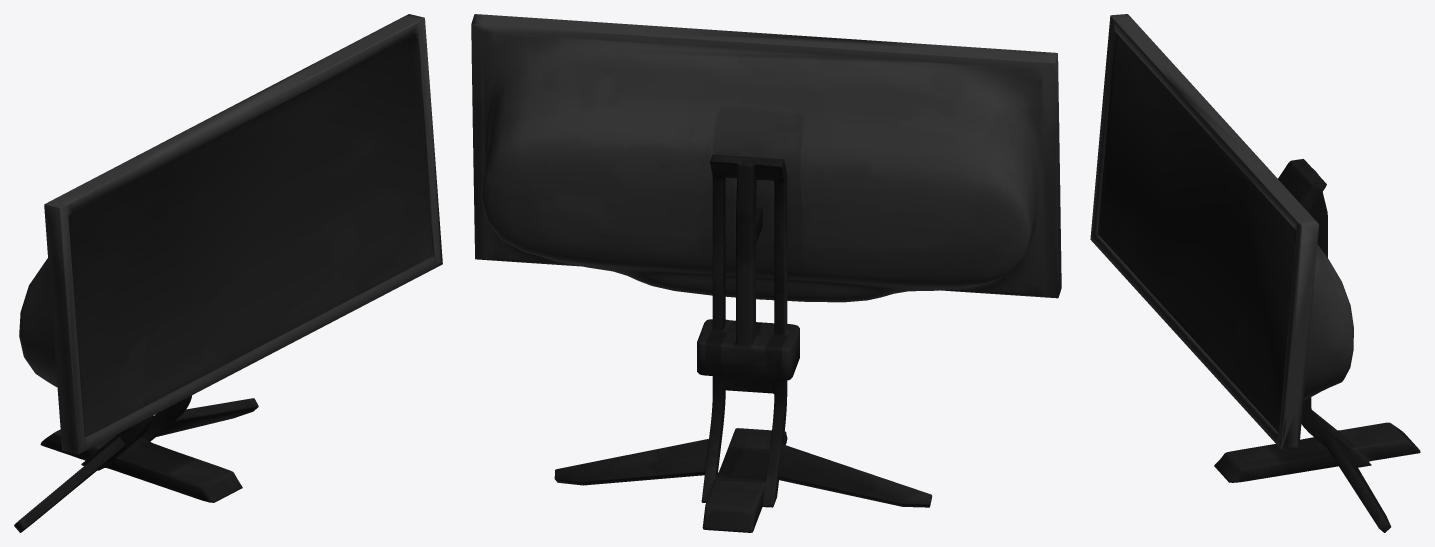
Rendered from monitor.glb.
3 renders of one model, left to right at view 1: azimuth 30°, elevation 25°; view 2: azimuth 150°, elevation 25°; view 3: azimuth 270°, elevation 25°, orthographic. The views are drawn at different scales.
Visible parts, largest first — view 1: Monitor_Monitor Screen_0, Stand_Stand_0, Supports_Supports_0; view 2: Monitor_Monitor Screen_0, Stand_Stand_0, Supports_Supports_0; view 3: Monitor_Monitor Screen_0, Stand_Stand_0, Supports_Supports_0.
Part boxes in pixels (box(x1,y1,x2,y2)): Monitor_Monitor Screen_0: box(19, 14, 442, 454); Stand_Stand_0: box(40, 395, 242, 502); Supports_Supports_0: box(14, 398, 258, 532); Monitor_Monitor Screen_0: box(471, 14, 1061, 302); Stand_Stand_0: box(697, 154, 799, 532); Supports_Supports_0: box(554, 439, 932, 507); Monitor_Monitor Screen_0: box(1090, 14, 1353, 449); Stand_Stand_0: box(1214, 159, 1420, 482); Supports_Supports_0: box(1323, 435, 1391, 532).
Bounding box in the file's own units: 4.14 × 3.25 × 2.67.
3 materials, 3 textured.
